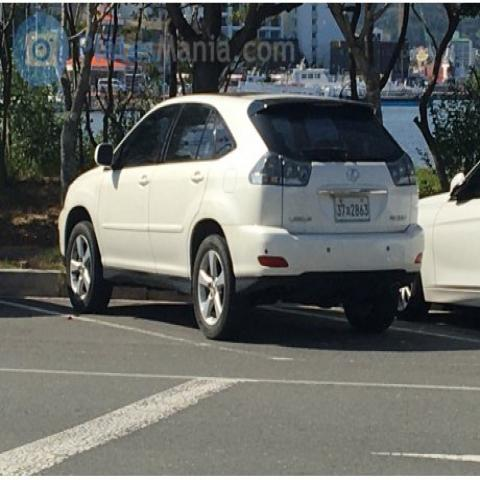LP: (333, 190, 374, 228)
